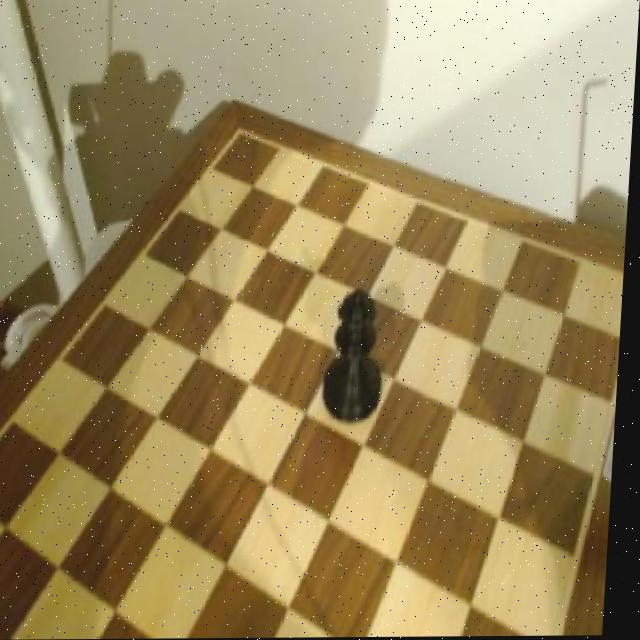black-pawn: (325, 285, 396, 425)
